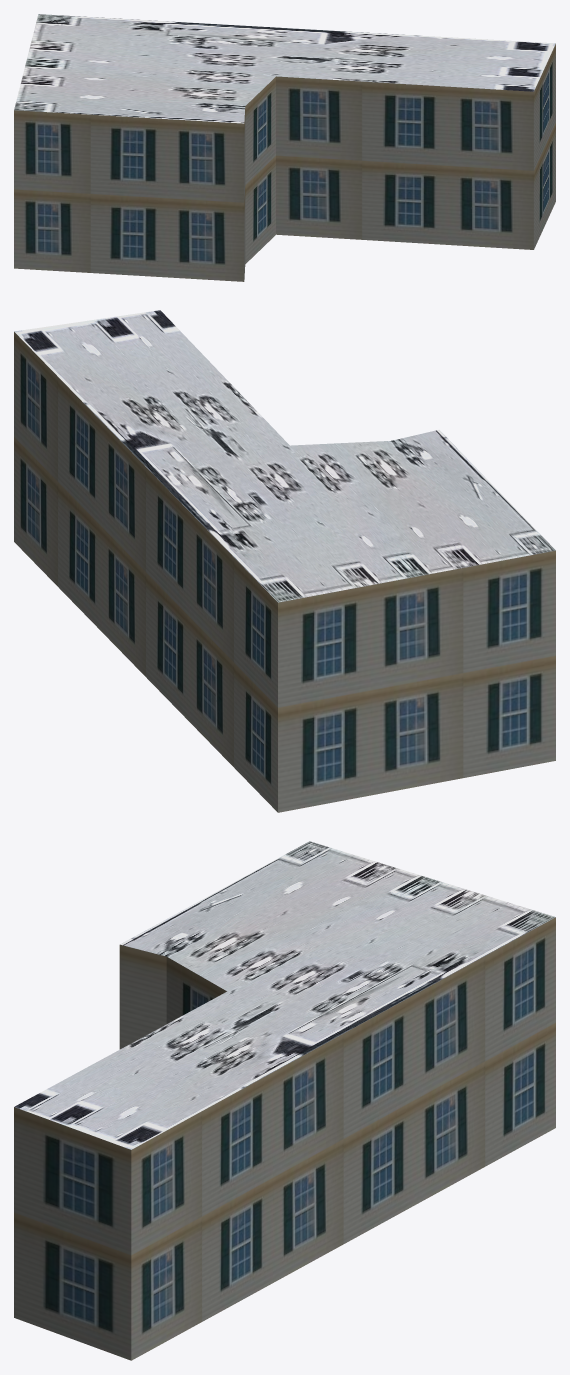
Rendered from ResTex__3960.fbx.
The picture shows the model from 3 angles, top to bottom: view 1: azimuth 30°, elevation 25°; view 2: azimuth 150°, elevation 25°; view 3: azimuth 270°, elevation 25°; orthographic projection. The views are drawn at different scales.
Visible parts, largest first — view 1: CityEngineMaterial_7_m, CityEngineMaterial_8_m; view 2: CityEngineMaterial_7_m, CityEngineMaterial_8_m; view 3: CityEngineMaterial_7_m, CityEngineMaterial_8_m.
Boxes of the visible parts, x1,y1,x2,y2 form: CityEngineMaterial_7_m: [14, 44, 555, 281]; CityEngineMaterial_8_m: [14, 14, 555, 123]; CityEngineMaterial_7_m: [14, 332, 555, 812]; CityEngineMaterial_8_m: [14, 310, 555, 602]; CityEngineMaterial_7_m: [14, 917, 555, 1360]; CityEngineMaterial_8_m: [14, 841, 555, 1149].
Bounding box in the file's own units: 18.84 × 6 × 13.98.
Materials: 2 (2 with a texture image).
